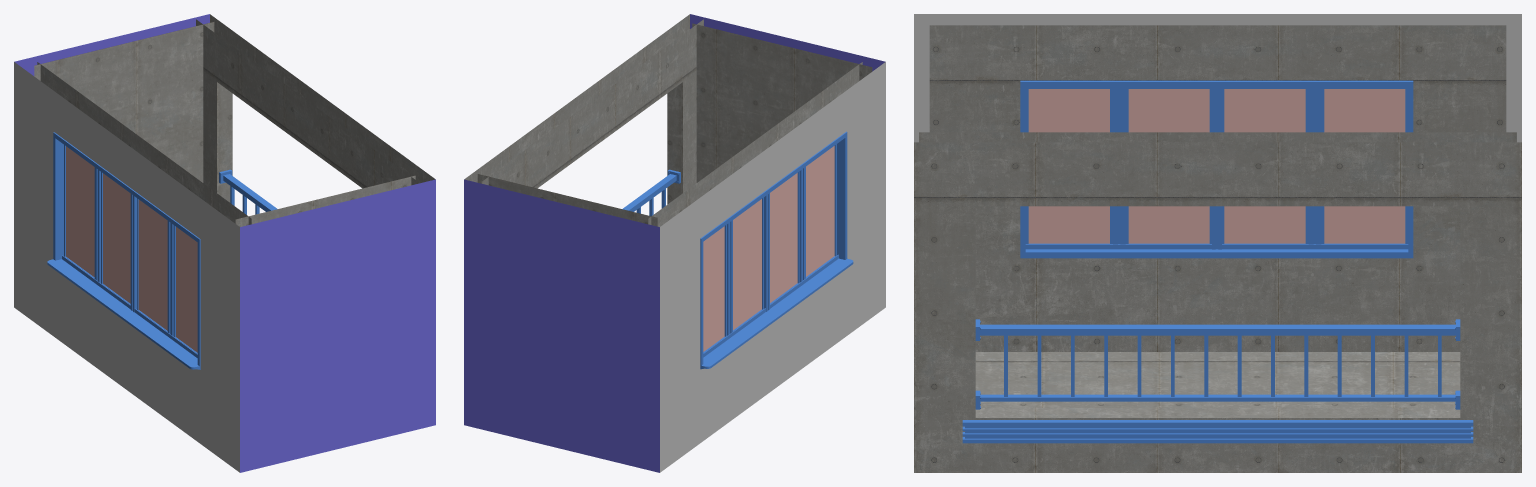
Rendered from AE_Wall_Windows_14.fbx.
3 views of the same model, side by side, from view 1: azimuth 30°, elevation 25°; view 2: azimuth 150°, elevation 25°; view 3: azimuth 270°, elevation 25° (orthographic). The views are drawn at different scales.
Visible parts, largest first — view 1: AE_Wall_Windows_14_LOD0; view 2: AE_Wall_Windows_14_LOD0; view 3: AE_Wall_Windows_14_LOD0.
Part boxes in pixels (x1=…): AE_Wall_Windows_14_LOD0: x1=14, y1=14, x2=435, y2=472; AE_Wall_Windows_14_LOD0: x1=464, y1=14, x2=885, y2=472; AE_Wall_Windows_14_LOD0: x1=914, y1=14, x2=1521, y2=472.
Size of what is drawn, in the model's own units: 266 by 300 by 500.
